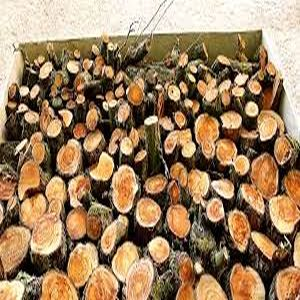log: (28, 212, 64, 260), (247, 152, 281, 196), (109, 164, 138, 214), (225, 265, 266, 300), (81, 265, 121, 300), (265, 193, 300, 233), (1, 226, 30, 274), (110, 239, 141, 283), (124, 259, 157, 300), (192, 113, 220, 161), (225, 206, 251, 254), (38, 269, 77, 300), (16, 194, 48, 229), (55, 137, 82, 177), (66, 243, 91, 286), (15, 161, 42, 200), (134, 196, 164, 231), (238, 182, 266, 218), (87, 149, 115, 183), (186, 167, 211, 205), (194, 270, 224, 300), (65, 206, 89, 243), (165, 204, 191, 237), (123, 78, 151, 108), (145, 234, 171, 264), (175, 252, 198, 284), (45, 175, 69, 205), (256, 115, 279, 144), (99, 225, 119, 258), (273, 135, 294, 166), (140, 172, 169, 194), (214, 139, 236, 168), (209, 178, 236, 201), (205, 196, 225, 224), (82, 130, 106, 152), (165, 181, 184, 207), (44, 118, 65, 141), (220, 111, 243, 132), (167, 161, 189, 182), (113, 102, 133, 125), (85, 214, 102, 241), (30, 140, 48, 165), (35, 62, 57, 82), (84, 107, 100, 133), (233, 154, 250, 177), (118, 136, 134, 157), (242, 101, 261, 118), (247, 78, 265, 95), (24, 109, 41, 127), (165, 84, 183, 100), (65, 60, 83, 76), (28, 83, 41, 104), (233, 70, 249, 87), (214, 55, 233, 69), (72, 124, 87, 140), (231, 84, 247, 99), (142, 113, 159, 127), (81, 55, 93, 72), (17, 84, 29, 100), (134, 150, 148, 163)
